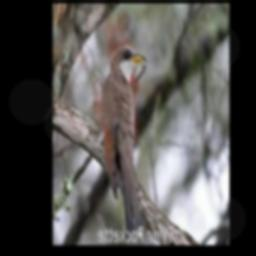Cuckoo: (101, 43, 147, 236)
